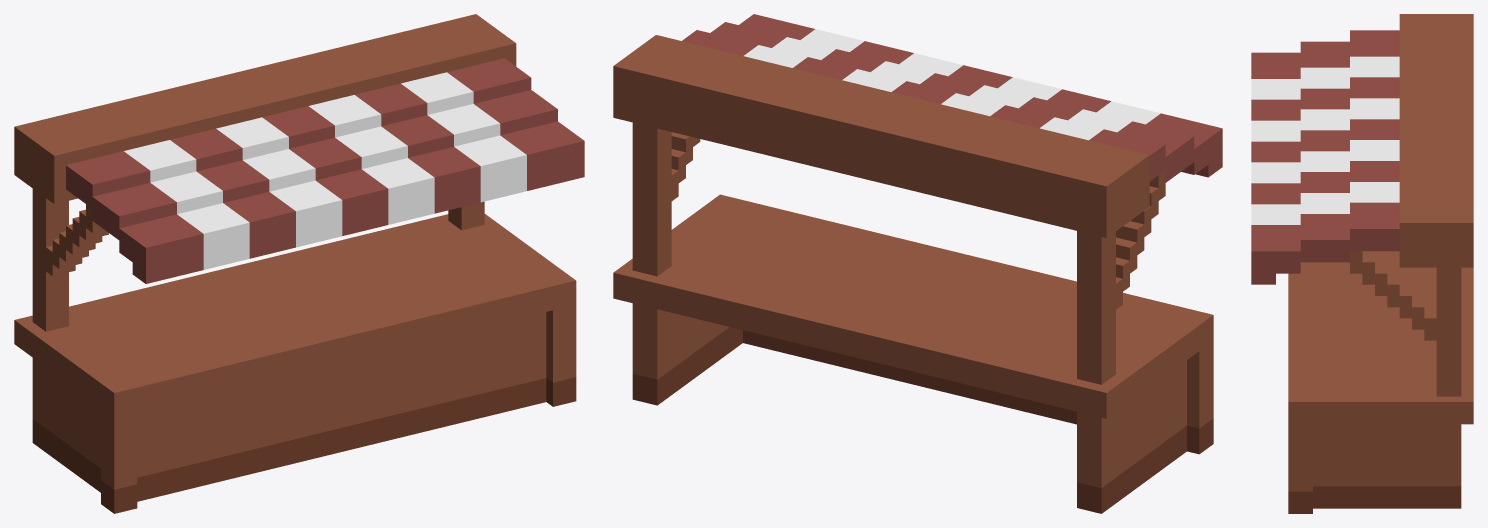
The model's file is stand_red.obj.
3 renders of one model, left to right at view 1: azimuth 30°, elevation 25°; view 2: azimuth 150°, elevation 25°; view 3: azimuth 270°, elevation 25°, orthographic. The views are drawn at different scales.
Bounding box in the file's own units: 4 × 2.6 × 1.8.
1 material, 1 textured.
